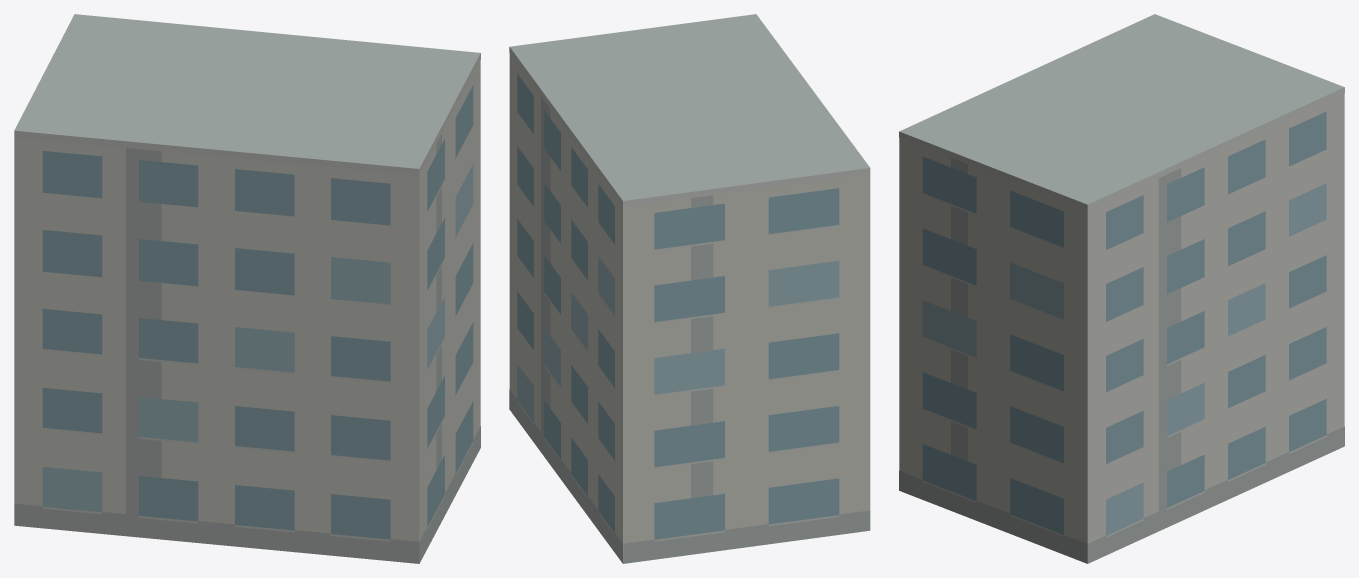
File: survey-upis-32974194.glb
3 views of the same model, side by side, from view 1: azimuth 30°, elevation 25°; view 2: azimuth 150°, elevation 25°; view 3: azimuth 270°, elevation 25° (orthographic). The views are drawn at different scales.
Parts seen in each view (by area): view 1: survey-upis-32974194.tmp; view 2: survey-upis-32974194.tmp; view 3: survey-upis-32974194.tmp.
Boxes of the visible parts, box(x1,y1,x2,y2) form: survey-upis-32974194.tmp: box(14, 14, 480, 563); survey-upis-32974194.tmp: box(509, 14, 870, 563); survey-upis-32974194.tmp: box(899, 14, 1344, 563).
Size of the model in its own units: 16.4 by 14.4 by 16.2.
